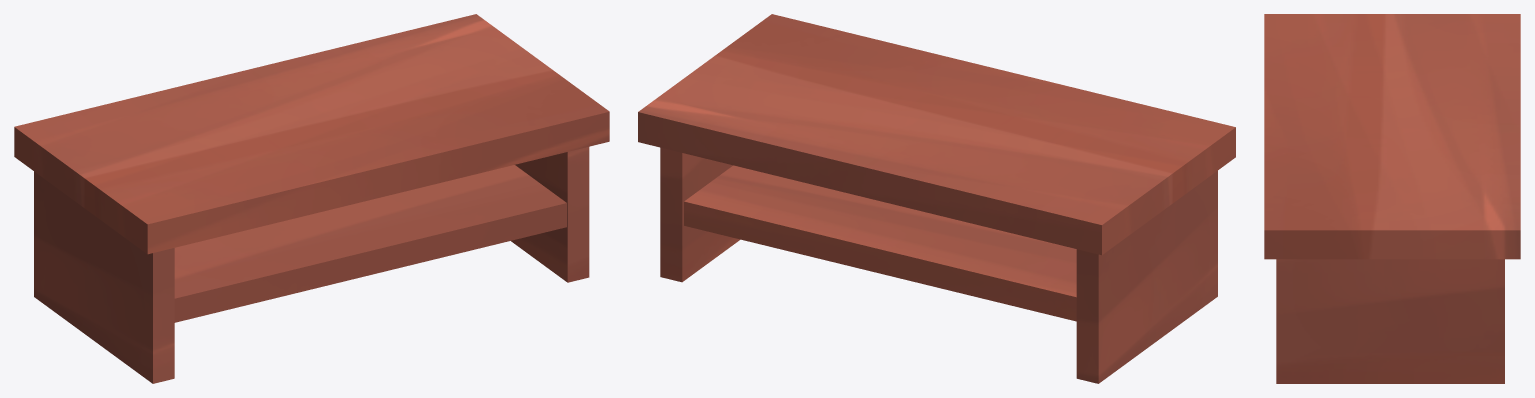
File: foottable.fbx
3 views of the same model, side by side, from view 1: azimuth 30°, elevation 25°; view 2: azimuth 150°, elevation 25°; view 3: azimuth 270°, elevation 25° (orthographic). The views are drawn at different scales.
Visible parts, largest first — view 1: miniTable; view 2: miniTable; view 3: miniTable.
Boxes of the visible parts, bbox=[...] form: miniTable: bbox=[14, 14, 609, 383]; miniTable: bbox=[638, 14, 1235, 383]; miniTable: bbox=[1264, 14, 1520, 383].
Size of the model in its own units: 1.2 by 0.414 by 0.6.
